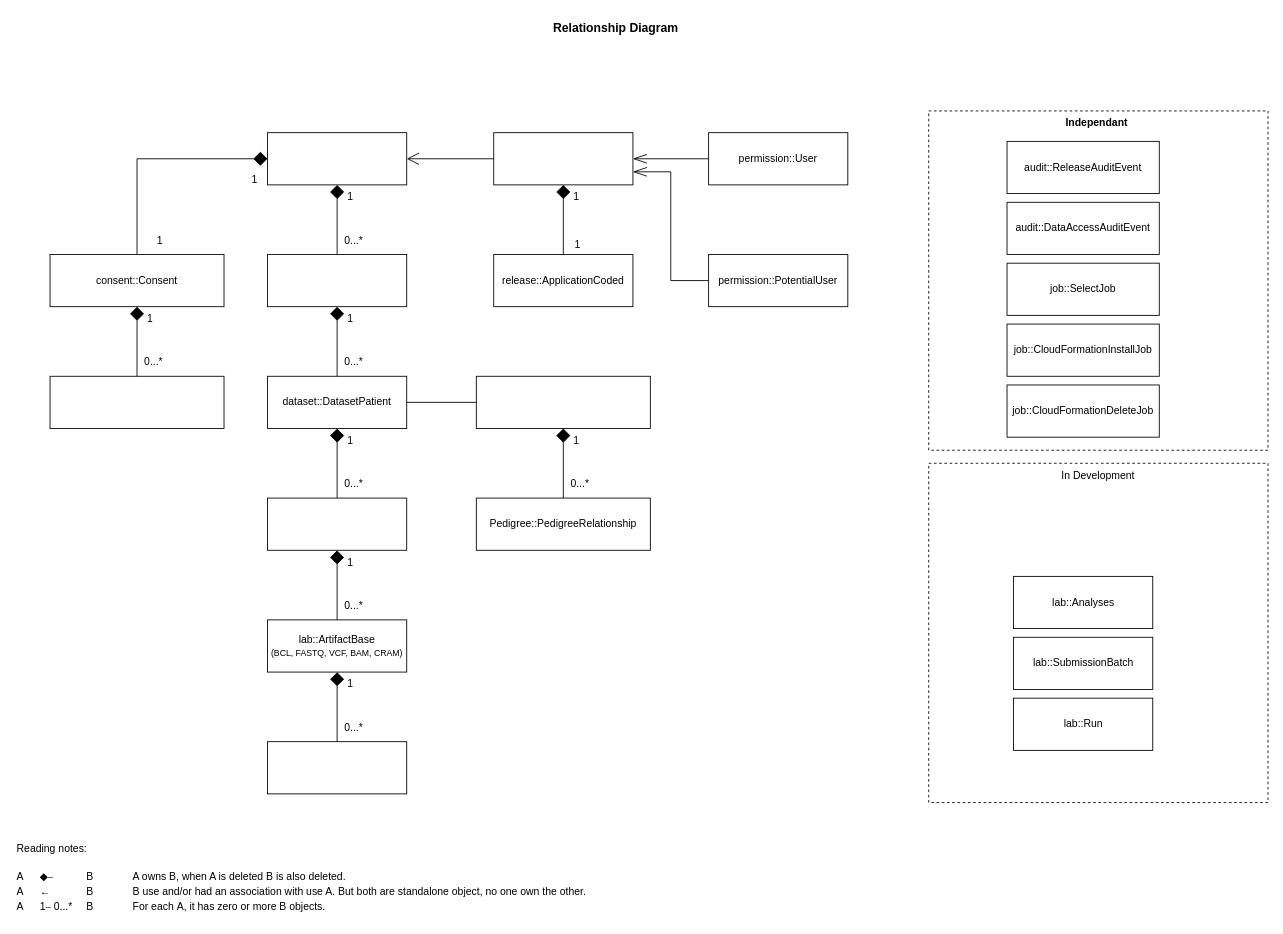
This 1283x934 diagram has some shape labels left out. Here are the shapes that lost their labels. From the top down, the centre of each, then its label:
At (337,158): "dataset::Dataset".
At (563,158): "release::Release".
At (337,280): "dataset::DatasetCase".
At (136,401): "consent::ConsentStatementDuo".
At (562,401): "Pedigree::Pedigree".
At (337,523): "dataset::DatasetSpecimen".
At (337,767): "storage::File".
